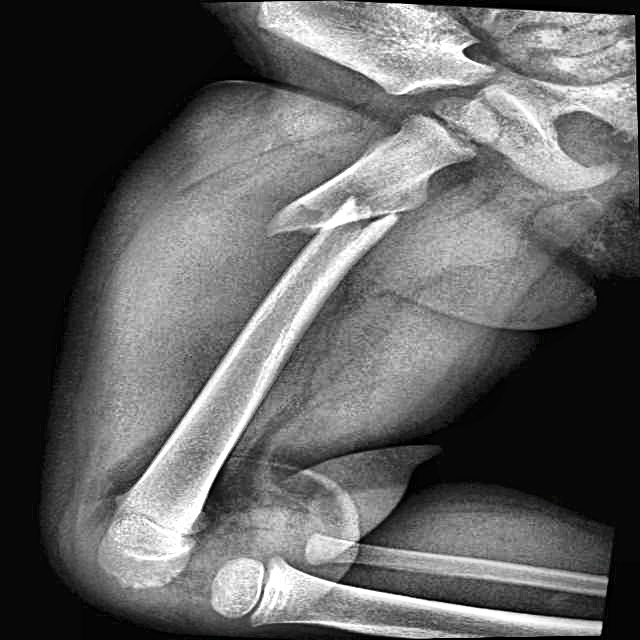Oblique: (245, 159, 433, 257)
